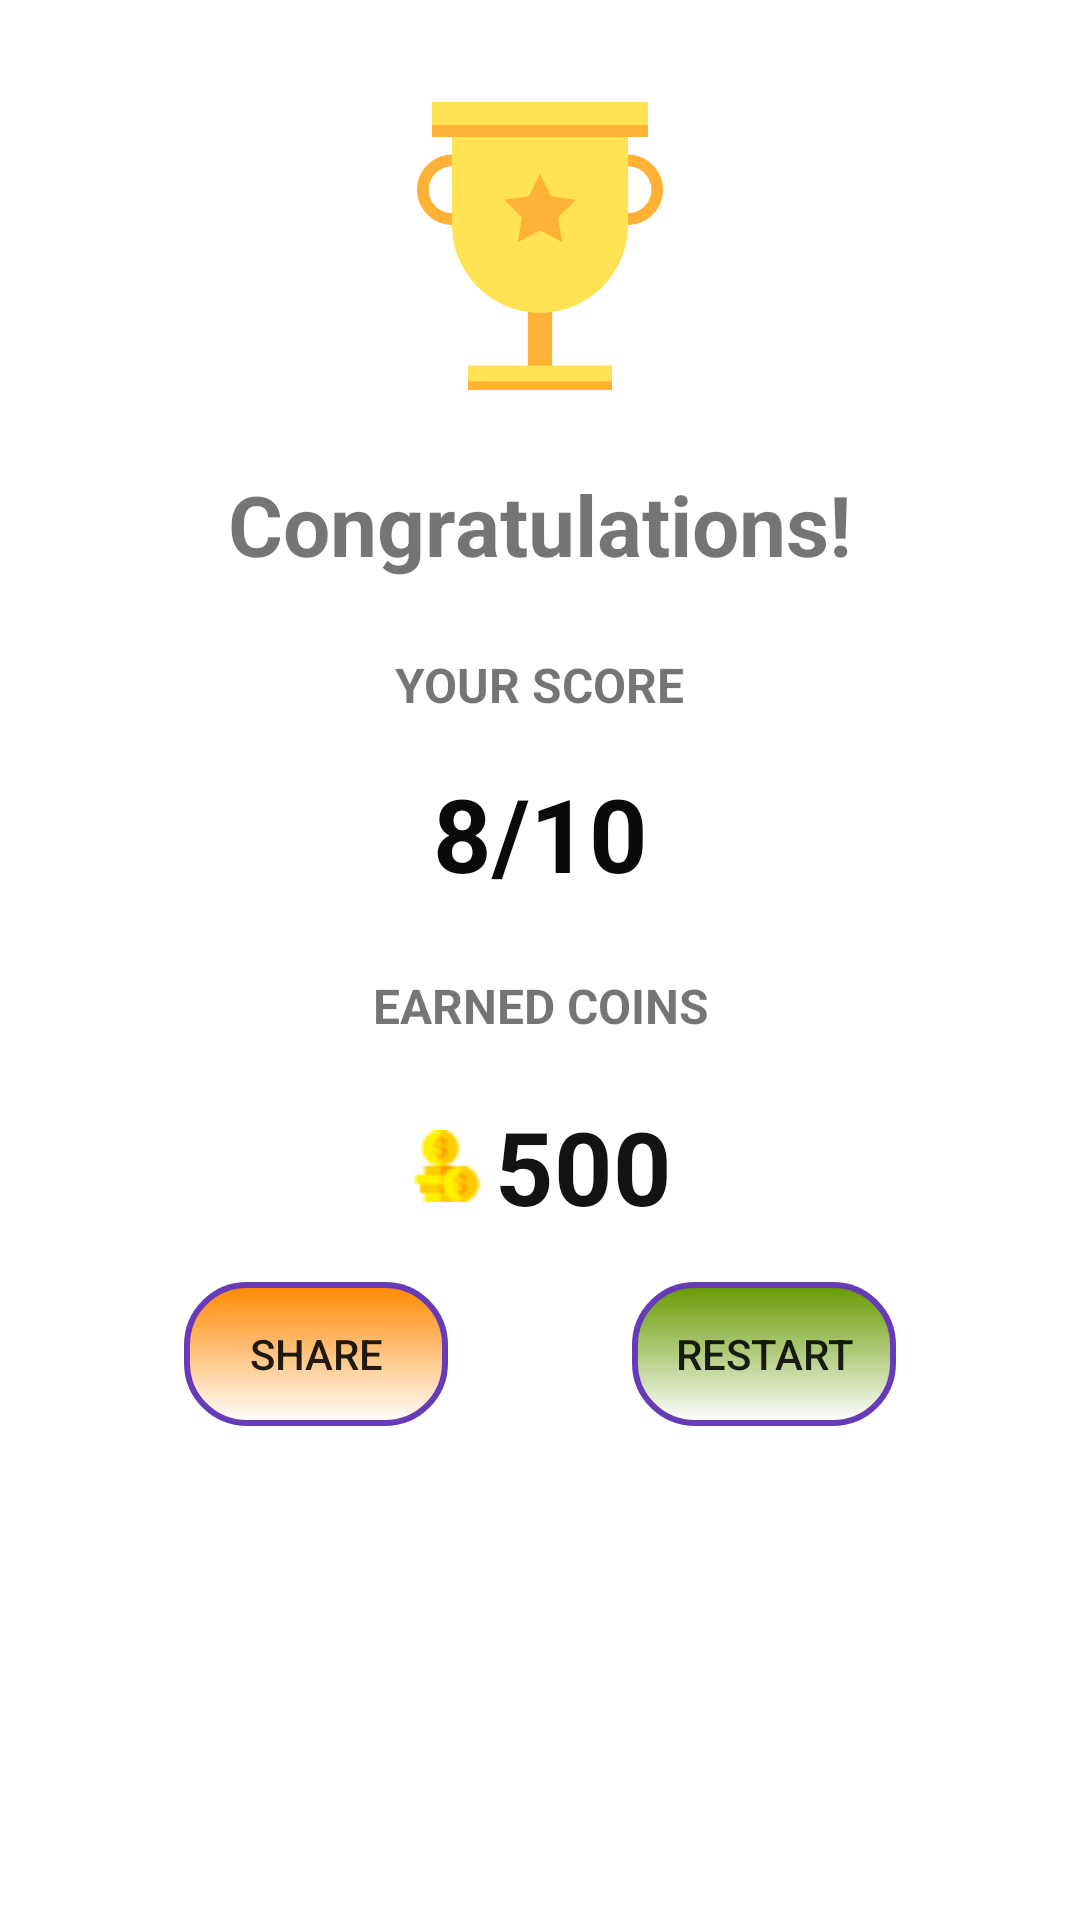

Where to tap for icons on this 1080w x 1920h app screen, as [x,y]:
awards: [540,246]
